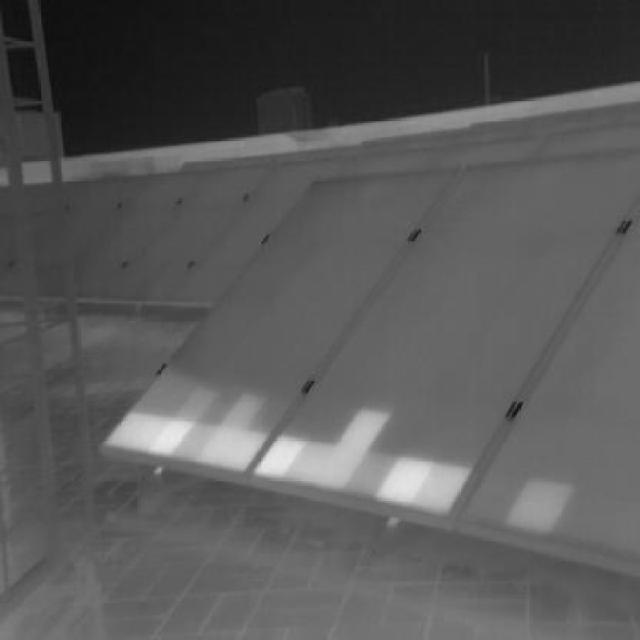hotspot: (506, 478, 576, 542), (302, 437, 356, 492), (254, 435, 311, 480), (380, 455, 431, 502), (337, 408, 388, 447), (214, 430, 260, 468), (112, 409, 153, 448), (154, 416, 195, 453)
